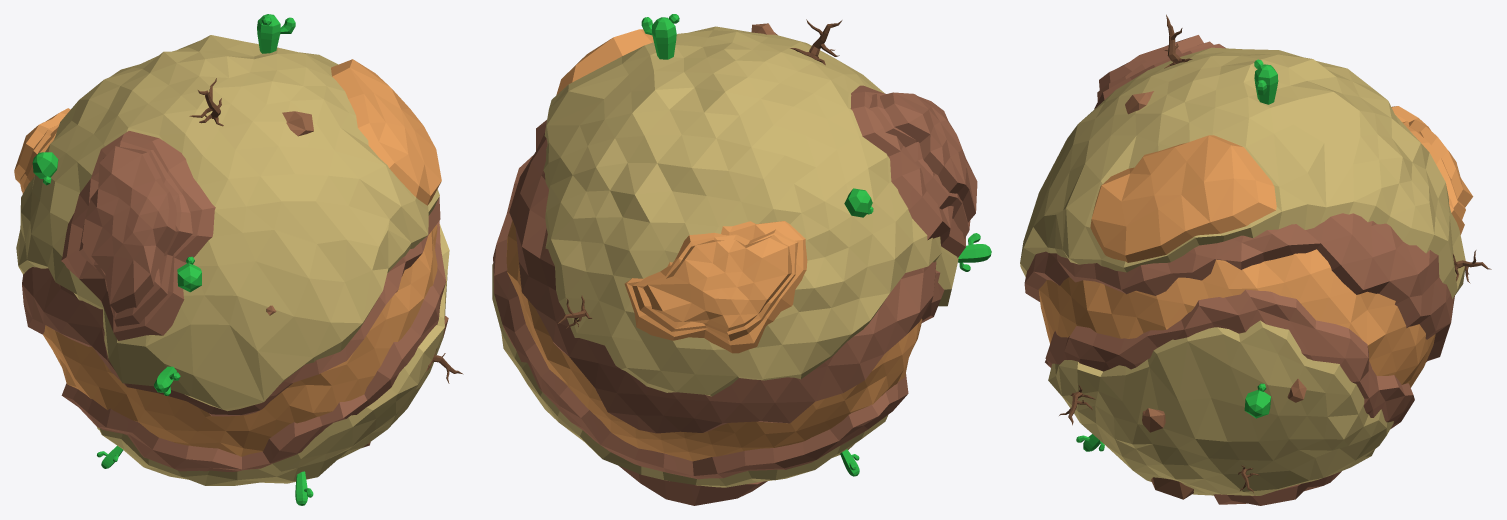
Rendered from desert_planet.glb.
3 views of the same model, side by side, from view 1: azimuth 30°, elevation 25°; view 2: azimuth 150°, elevation 25°; view 3: azimuth 270°, elevation 25° (orthographic). The views are drawn at different scales.
Visible parts, largest first — view 1: DesertPlanet; view 2: DesertPlanet; view 3: DesertPlanet.
Part boxes in pixels (left/top/right/bottom): DesertPlanet: left=14, top=14, right=463, bottom=505; DesertPlanet: left=492, top=14, right=991, bottom=505; DesertPlanet: left=1020, top=14, right=1491, bottom=505.
Size of the model in its own units: 2.19 by 2.34 by 2.26.
